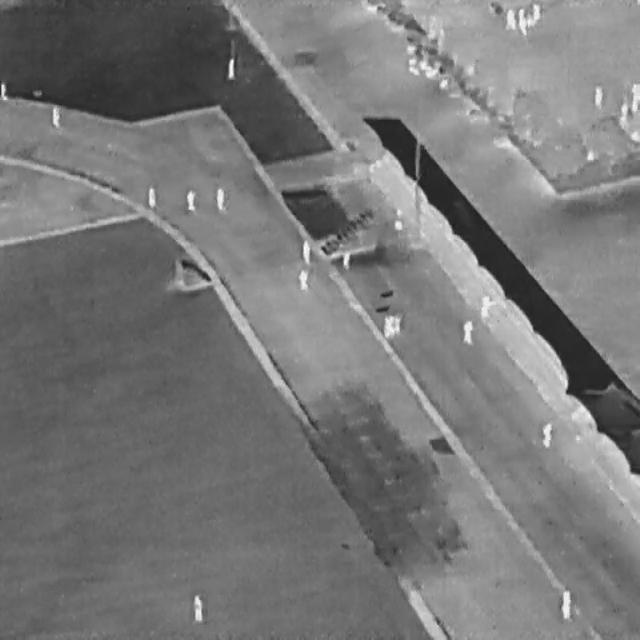DontCare: (400, 40, 453, 91), (501, 0, 544, 38), (381, 312, 402, 338)
Person: (559, 589, 572, 619), (540, 420, 552, 448), (592, 82, 604, 109), (461, 319, 473, 345), (193, 592, 203, 622), (392, 205, 402, 234), (630, 82, 639, 114), (226, 54, 236, 81), (297, 269, 308, 291), (185, 188, 196, 210), (51, 102, 61, 126), (215, 188, 225, 210), (147, 184, 156, 208), (341, 248, 350, 270), (302, 238, 309, 264), (0, 80, 7, 100)
